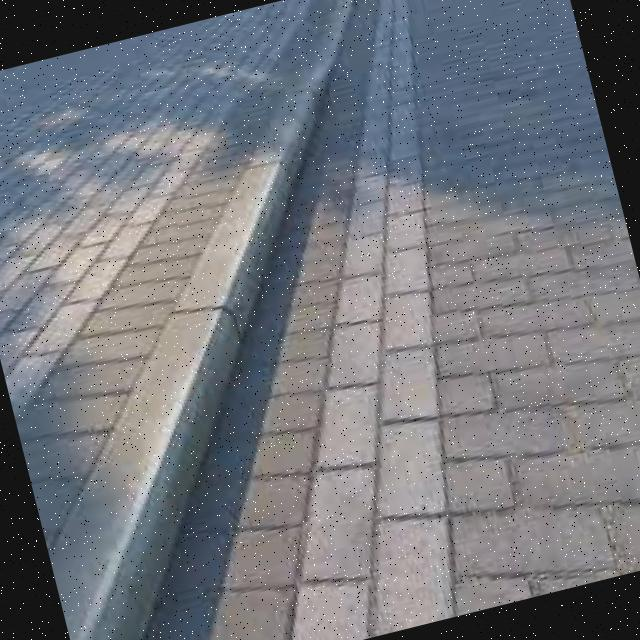curb: (8, 336, 289, 640), (123, 219, 301, 394), (185, 109, 349, 229)
